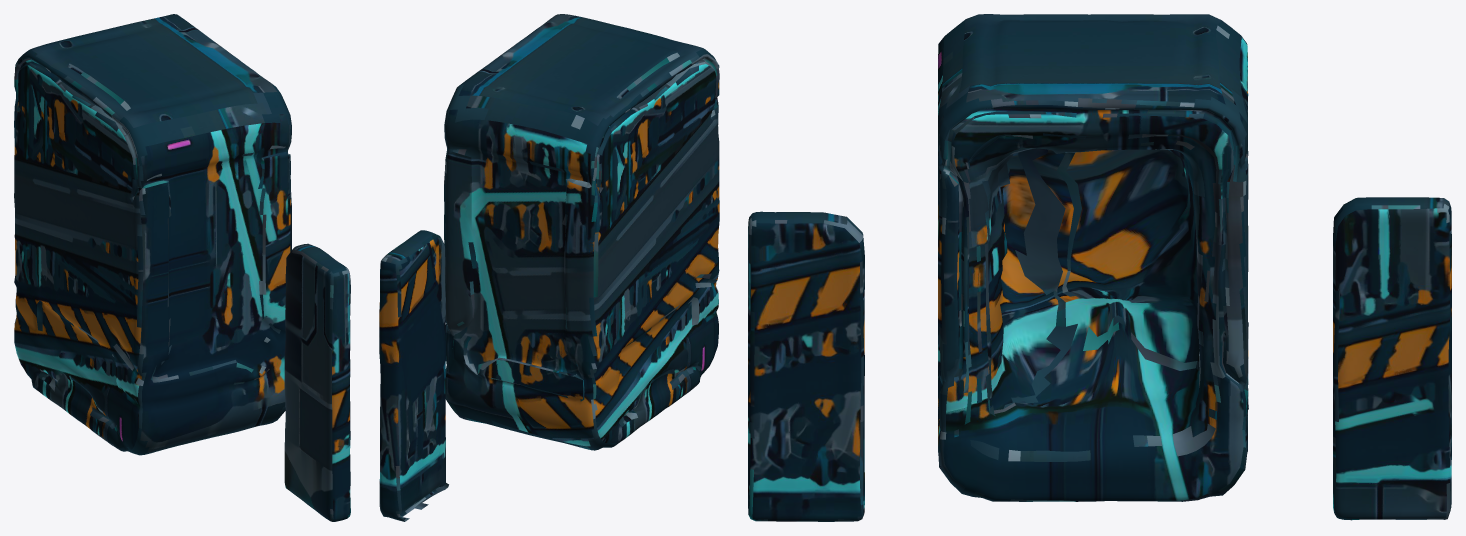
3 views of the same model, side by side, from view 1: azimuth 30°, elevation 25°; view 2: azimuth 150°, elevation 25°; view 3: azimuth 270°, elevation 25° (orthographic). The views are drawn at different scales.
Visible parts, largest first — view 1: tripo_node_8dddc04f, tripo_node_8dddc04f.002; view 2: tripo_node_8dddc04f, tripo_node_8dddc04f.001; view 3: tripo_node_8dddc04f, tripo_node_8dddc04f.001, tripo_node_8dddc04f.002.
Boxes of the visible parts, x1,y1,x2,y2 form: tripo_node_8dddc04f: [14, 14, 291, 455]; tripo_node_8dddc04f.002: [284, 243, 350, 521]; tripo_node_8dddc04f: [444, 14, 719, 450]; tripo_node_8dddc04f.001: [379, 230, 448, 521]; tripo_node_8dddc04f: [938, 14, 1248, 501]; tripo_node_8dddc04f.001: [1333, 197, 1451, 520]; tripo_node_8dddc04f.002: [748, 211, 864, 521].
Bounding box in the file's own units: 30.75 × 68.57 × 99.98.
